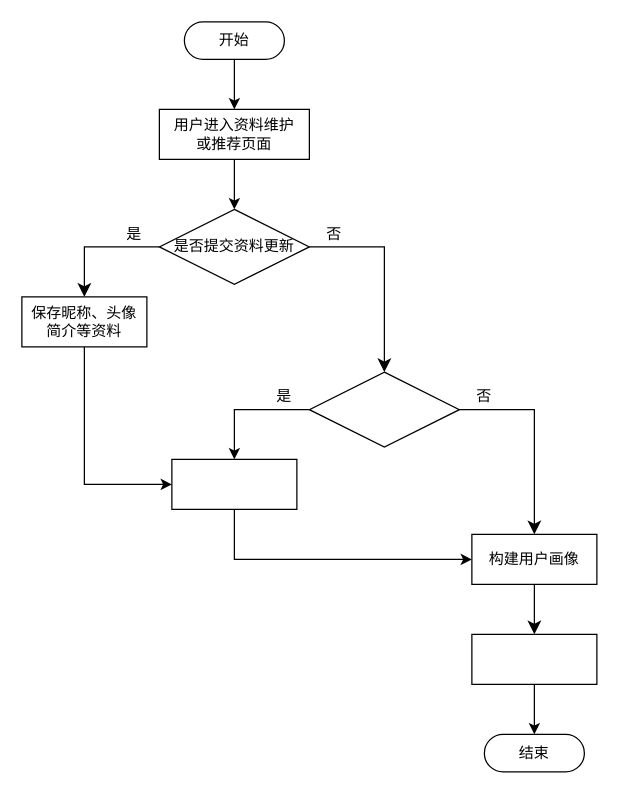
The diagram is 619 pixels wide and 794 high, and some of its shapes have lost their labels. The shapes that lost their labels are listed below. From the top down, each one's centre as x and y in pixels, then its label:
At (383,409): "是否产生点赞 评论等行为".
At (234,483): "更新用户特征向量".
At (534,658): "返回用户信息 和认证状态".
